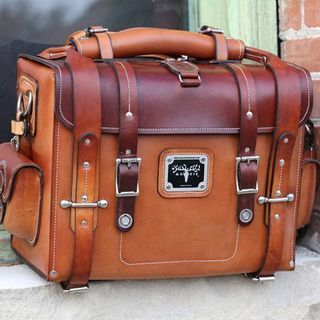cuero: (1, 26, 320, 287)
